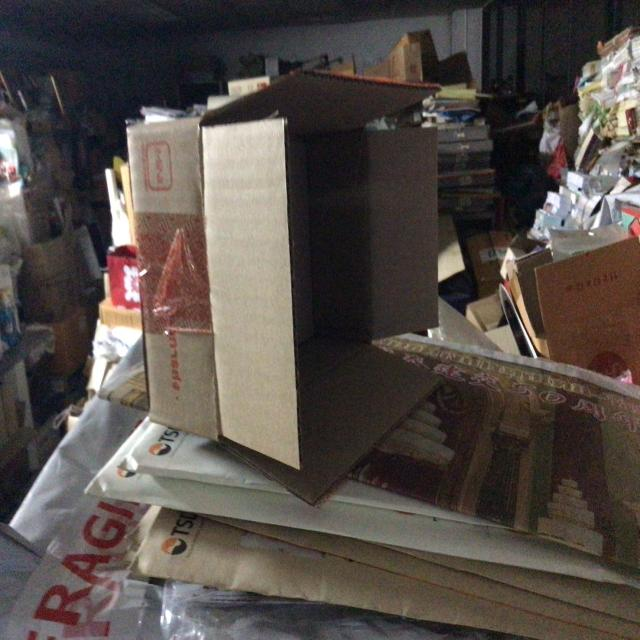cardboard: (130, 76, 470, 496)
